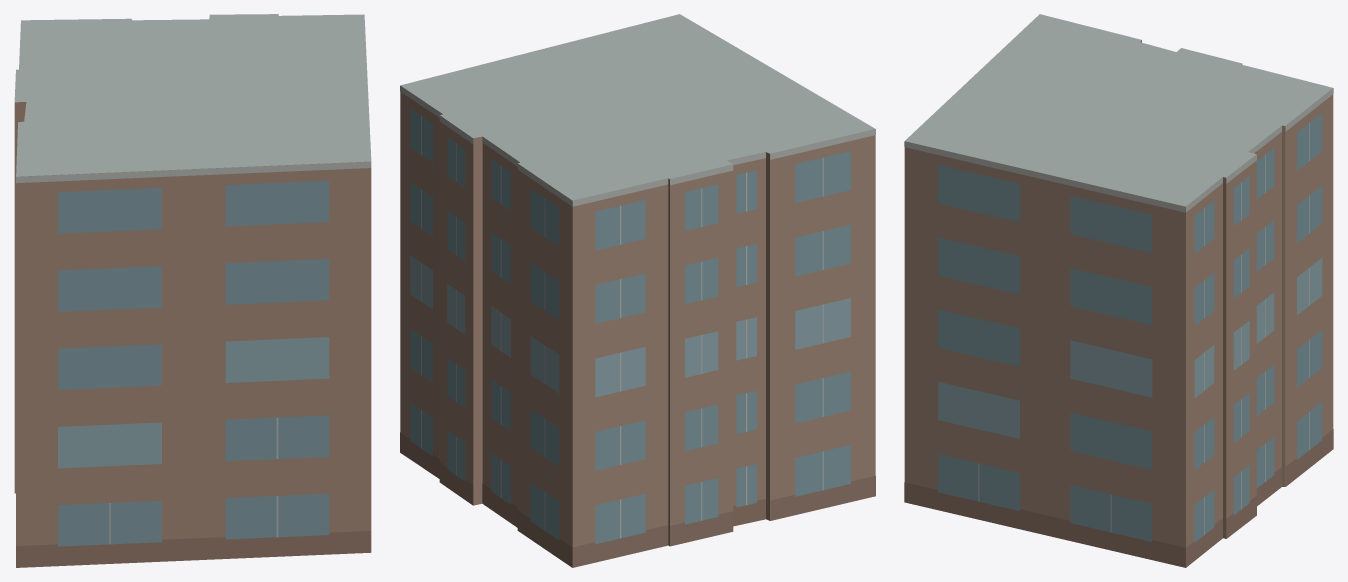
Rendered from survey-upis-32809018.glb.
The picture shows the model from 3 angles, left to right: view 1: azimuth 30°, elevation 25°; view 2: azimuth 150°, elevation 25°; view 3: azimuth 270°, elevation 25°; orthographic projection. The views are drawn at different scales.
Visible parts, largest first — view 1: survey-upis-32809018.tmp; view 2: survey-upis-32809018.tmp; view 3: survey-upis-32809018.tmp.
Part boxes in pixels (left/top/right/bottom): survey-upis-32809018.tmp: left=14, top=14, right=371, bottom=567; survey-upis-32809018.tmp: left=400, top=14, right=875, bottom=567; survey-upis-32809018.tmp: left=904, top=14, right=1333, bottom=567.
Bounding box in the file's own units: 16.77 × 14.65 × 15.78.
